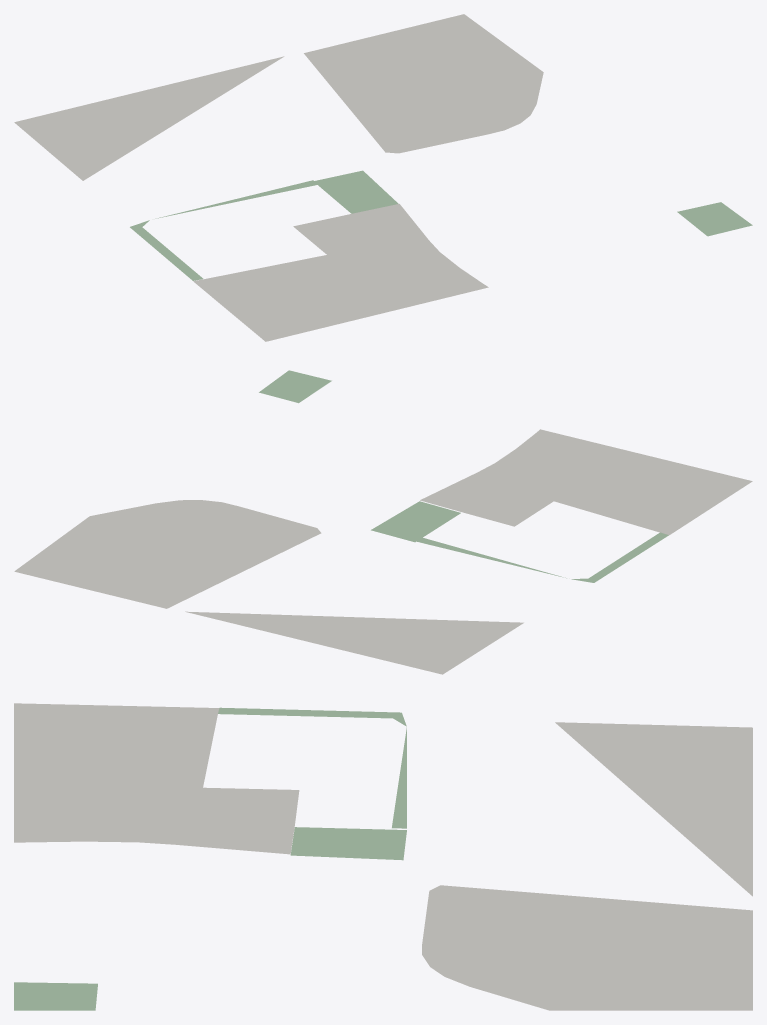
File: 140_109_mid.glb
3 views of the same model, one above another, from view 1: azimuth 30°, elevation 25°; view 2: azimuth 150°, elevation 25°; view 3: azimuth 270°, elevation 25° (orthographic). The views are drawn at different scales.
Bounding box in the file's own units: 487 × 2.54 × 500.
